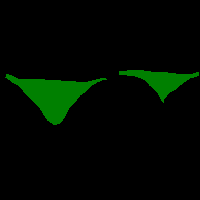mutande: (5, 73, 107, 125), (119, 70, 199, 103)
